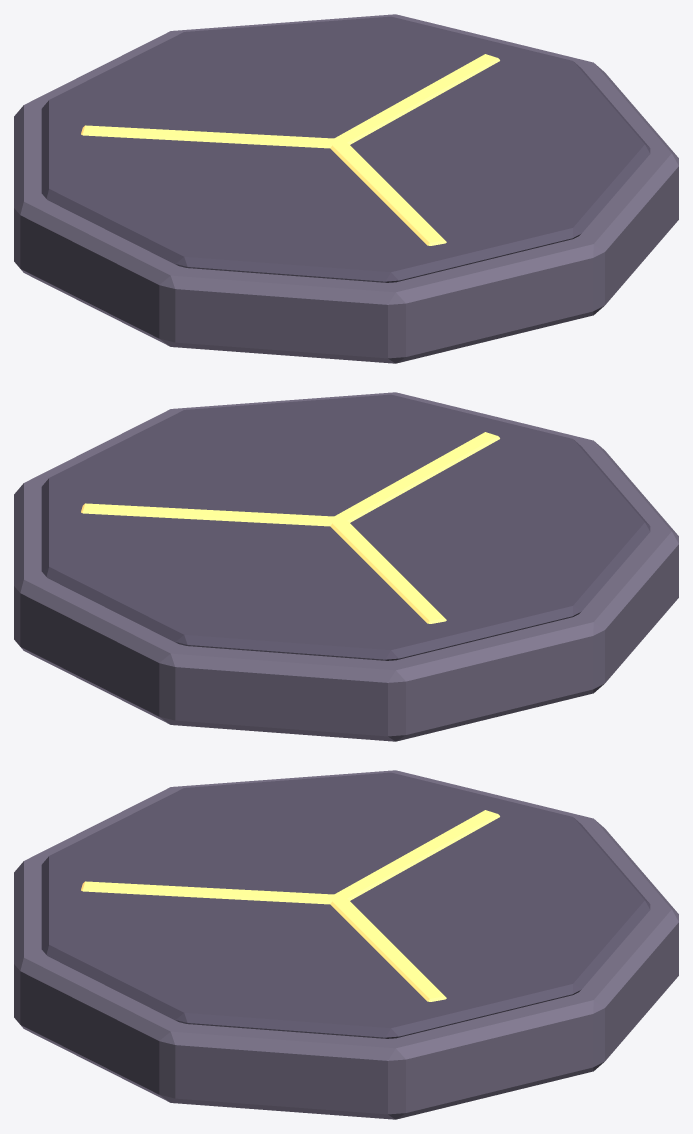
The model's file is ember_crust_slab.glb.
3 renders of one model, top to bottom at view 1: azimuth 30°, elevation 25°; view 2: azimuth 150°, elevation 25°; view 3: azimuth 270°, elevation 25°, orthographic.
Parts seen in each view (by area): view 1: ember_crust_slab.001; view 2: ember_crust_slab.001; view 3: ember_crust_slab.001.
Boxes of the visible parts, x1,y1,x2,y2 form: ember_crust_slab.001: [14, 14, 678, 363]; ember_crust_slab.001: [14, 392, 678, 741]; ember_crust_slab.001: [14, 770, 678, 1119].
Size of the model in its own units: 2.74 by 0.37 by 2.7.
